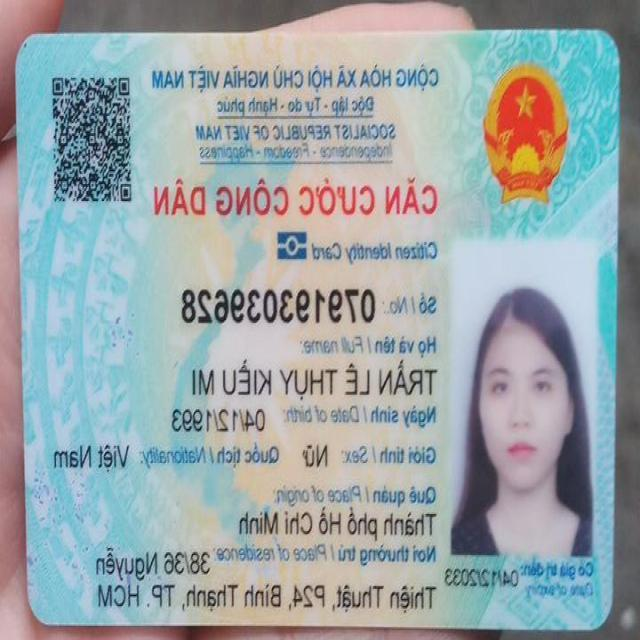bottom_left: (576, 590, 628, 640)
bottom_right: (15, 586, 66, 640)
image_person: (450, 246, 606, 555)
top_left: (583, 20, 636, 74)
top_right: (0, 19, 57, 74)
